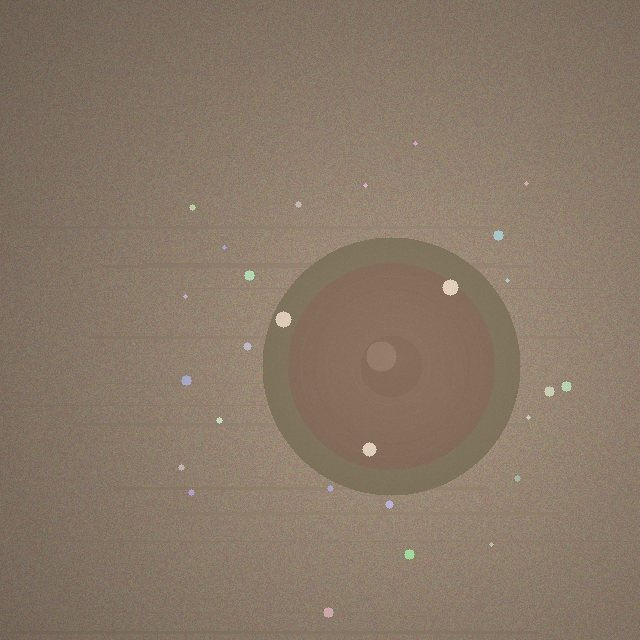overburn: (262, 237, 520, 495)
